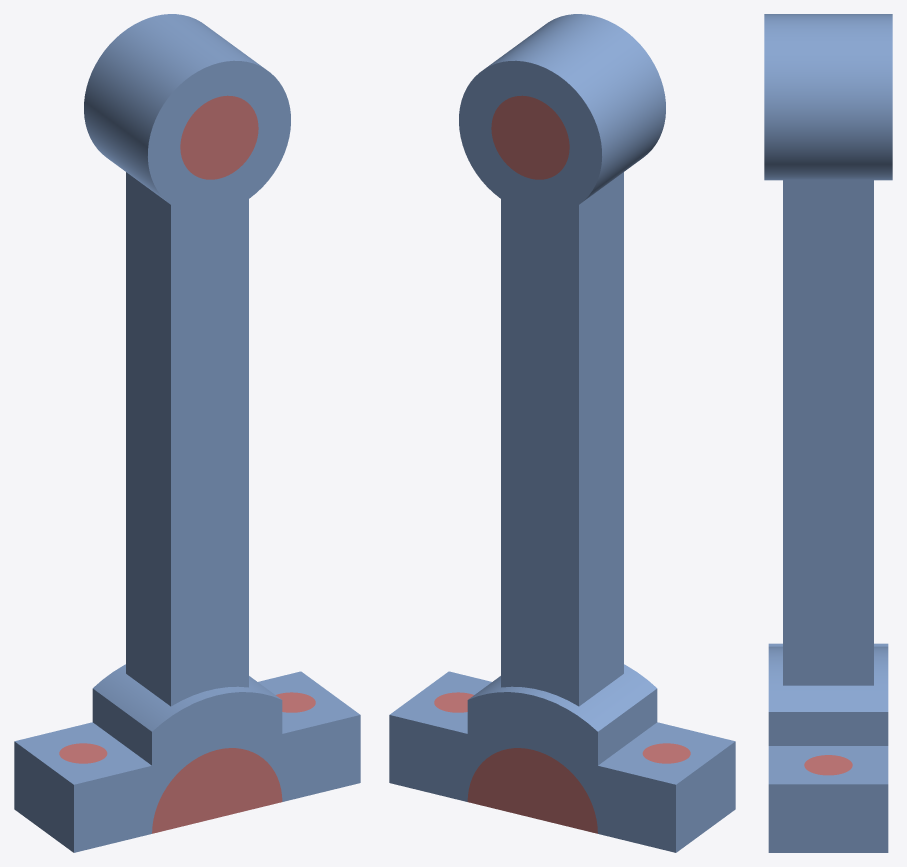
Rendered from step_25.glb.
3 views of the same model, side by side, from view 1: azimuth 30°, elevation 25°; view 2: azimuth 150°, elevation 25°; view 3: azimuth 270°, elevation 25° (orthographic).
Visible parts, largest first — view 1: part__connecting rod, removed__connecting rod; view 2: part__connecting rod, removed__connecting rod; view 3: part__connecting rod, removed__connecting rod.
Part boxes in pixels (box(x1,y1,x2,y2)): part__connecting rod: box(14, 14, 360, 852); removed__connecting rod: box(59, 95, 315, 833); part__connecting rod: box(389, 14, 735, 852); removed__connecting rod: box(434, 95, 690, 833); part__connecting rod: box(764, 14, 892, 852); removed__connecting rod: box(804, 755, 852, 775).
Bounding box in the file's own units: 44 × 111 × 17.
